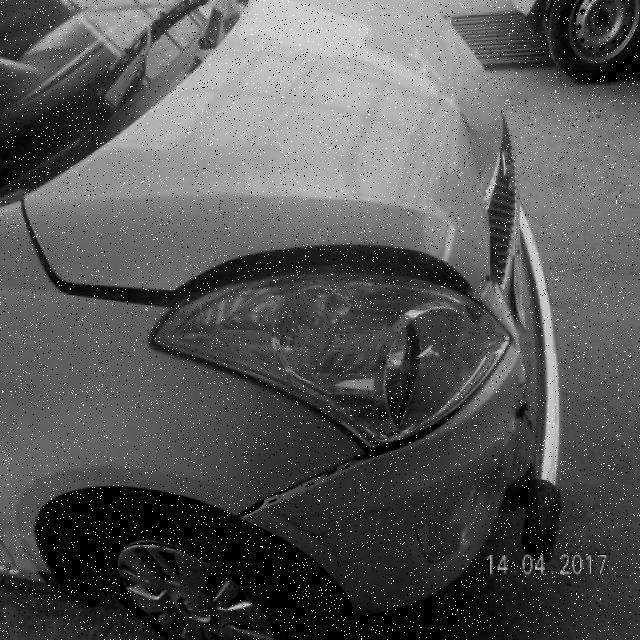car damage: (26, 226, 477, 311), (238, 456, 372, 526), (285, 506, 394, 569), (462, 106, 504, 210), (510, 375, 529, 443)
